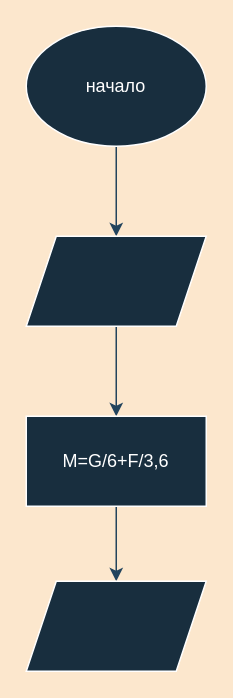
This 233x698 diagram has some shape labels left out. The box of each missing label's shape, as (x1, y1, x2, y2) in pixels:
Ввод G,F: (25, 235, 206, 326)
Вывод М: (25, 580, 206, 671)
